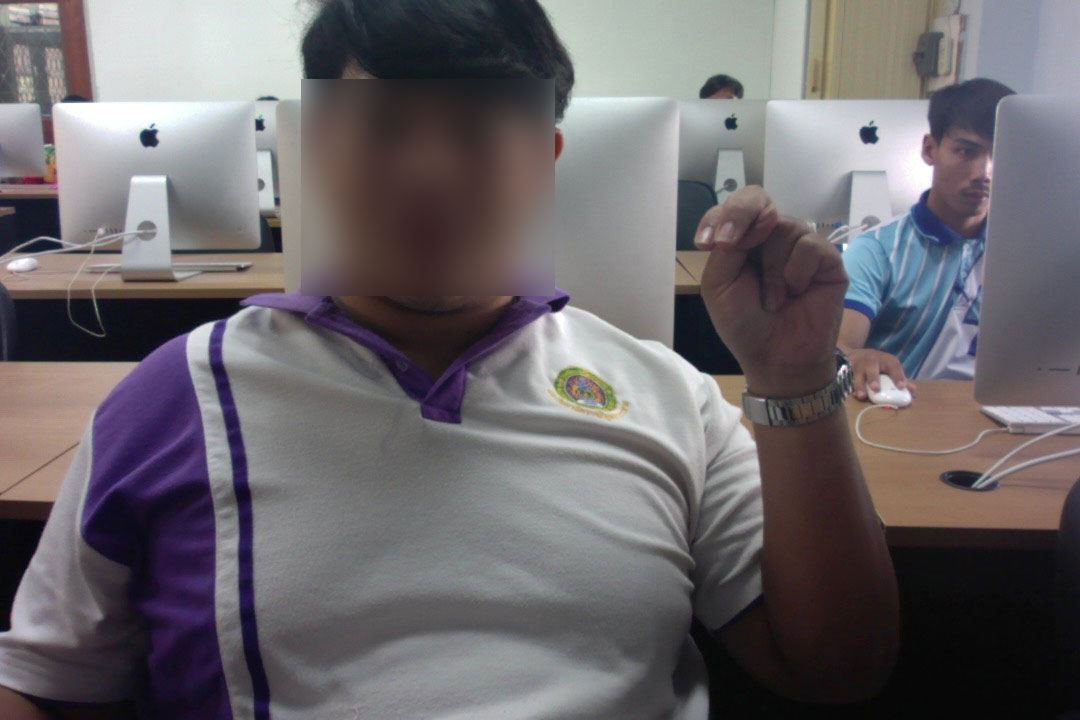nor: (684, 178, 854, 379)
